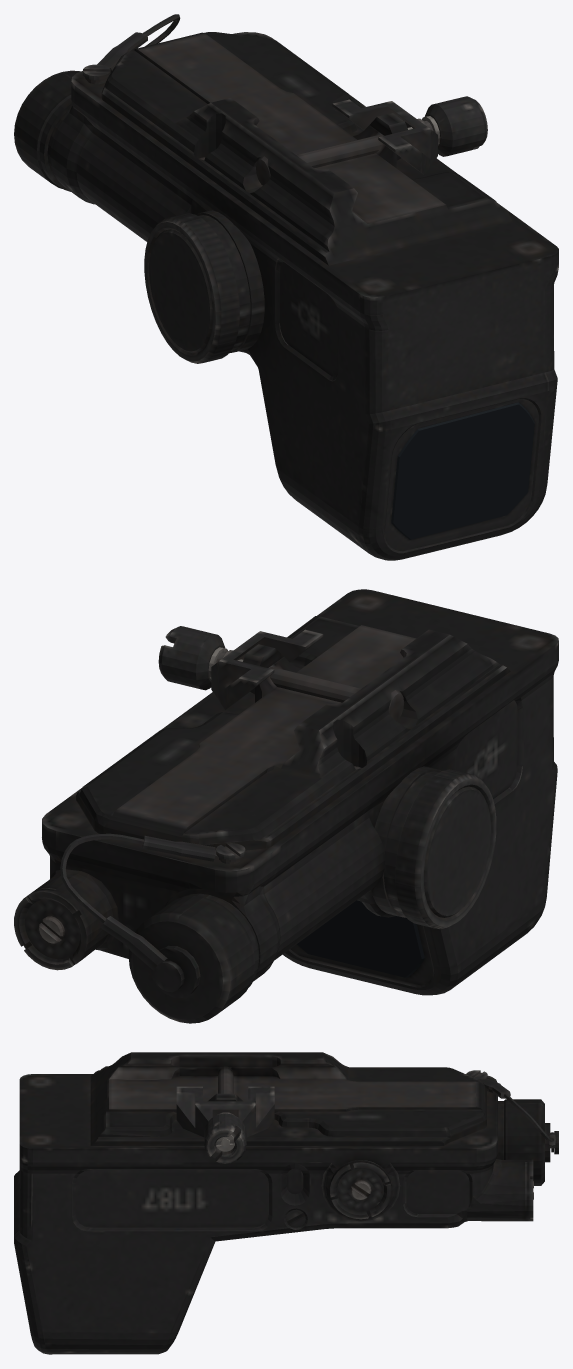
3 views of the same model, one above another, from view 1: azimuth 30°, elevation 25°; view 2: azimuth 150°, elevation 25°; view 3: azimuth 270°, elevation 25° (orthographic). The views are drawn at different scales.
Visible parts, largest first — view 1: TW_5c0505e00db834001b735073_PZ_Import; view 2: TW_5c0505e00db834001b735073_PZ_Import; view 3: TW_5c0505e00db834001b735073_PZ_Import.
Boxes of the visible parts, x1,y1,x2,y2 form: TW_5c0505e00db834001b735073_PZ_Import: (14,14,558,560); TW_5c0505e00db834001b735073_PZ_Import: (14,589,558,1023); TW_5c0505e00db834001b735073_PZ_Import: (14,1052,558,1354).
Bounding box in the file's own units: 0.0394 × 0.0841 × 0.044.
Materials: 1 (1 with a texture image).
